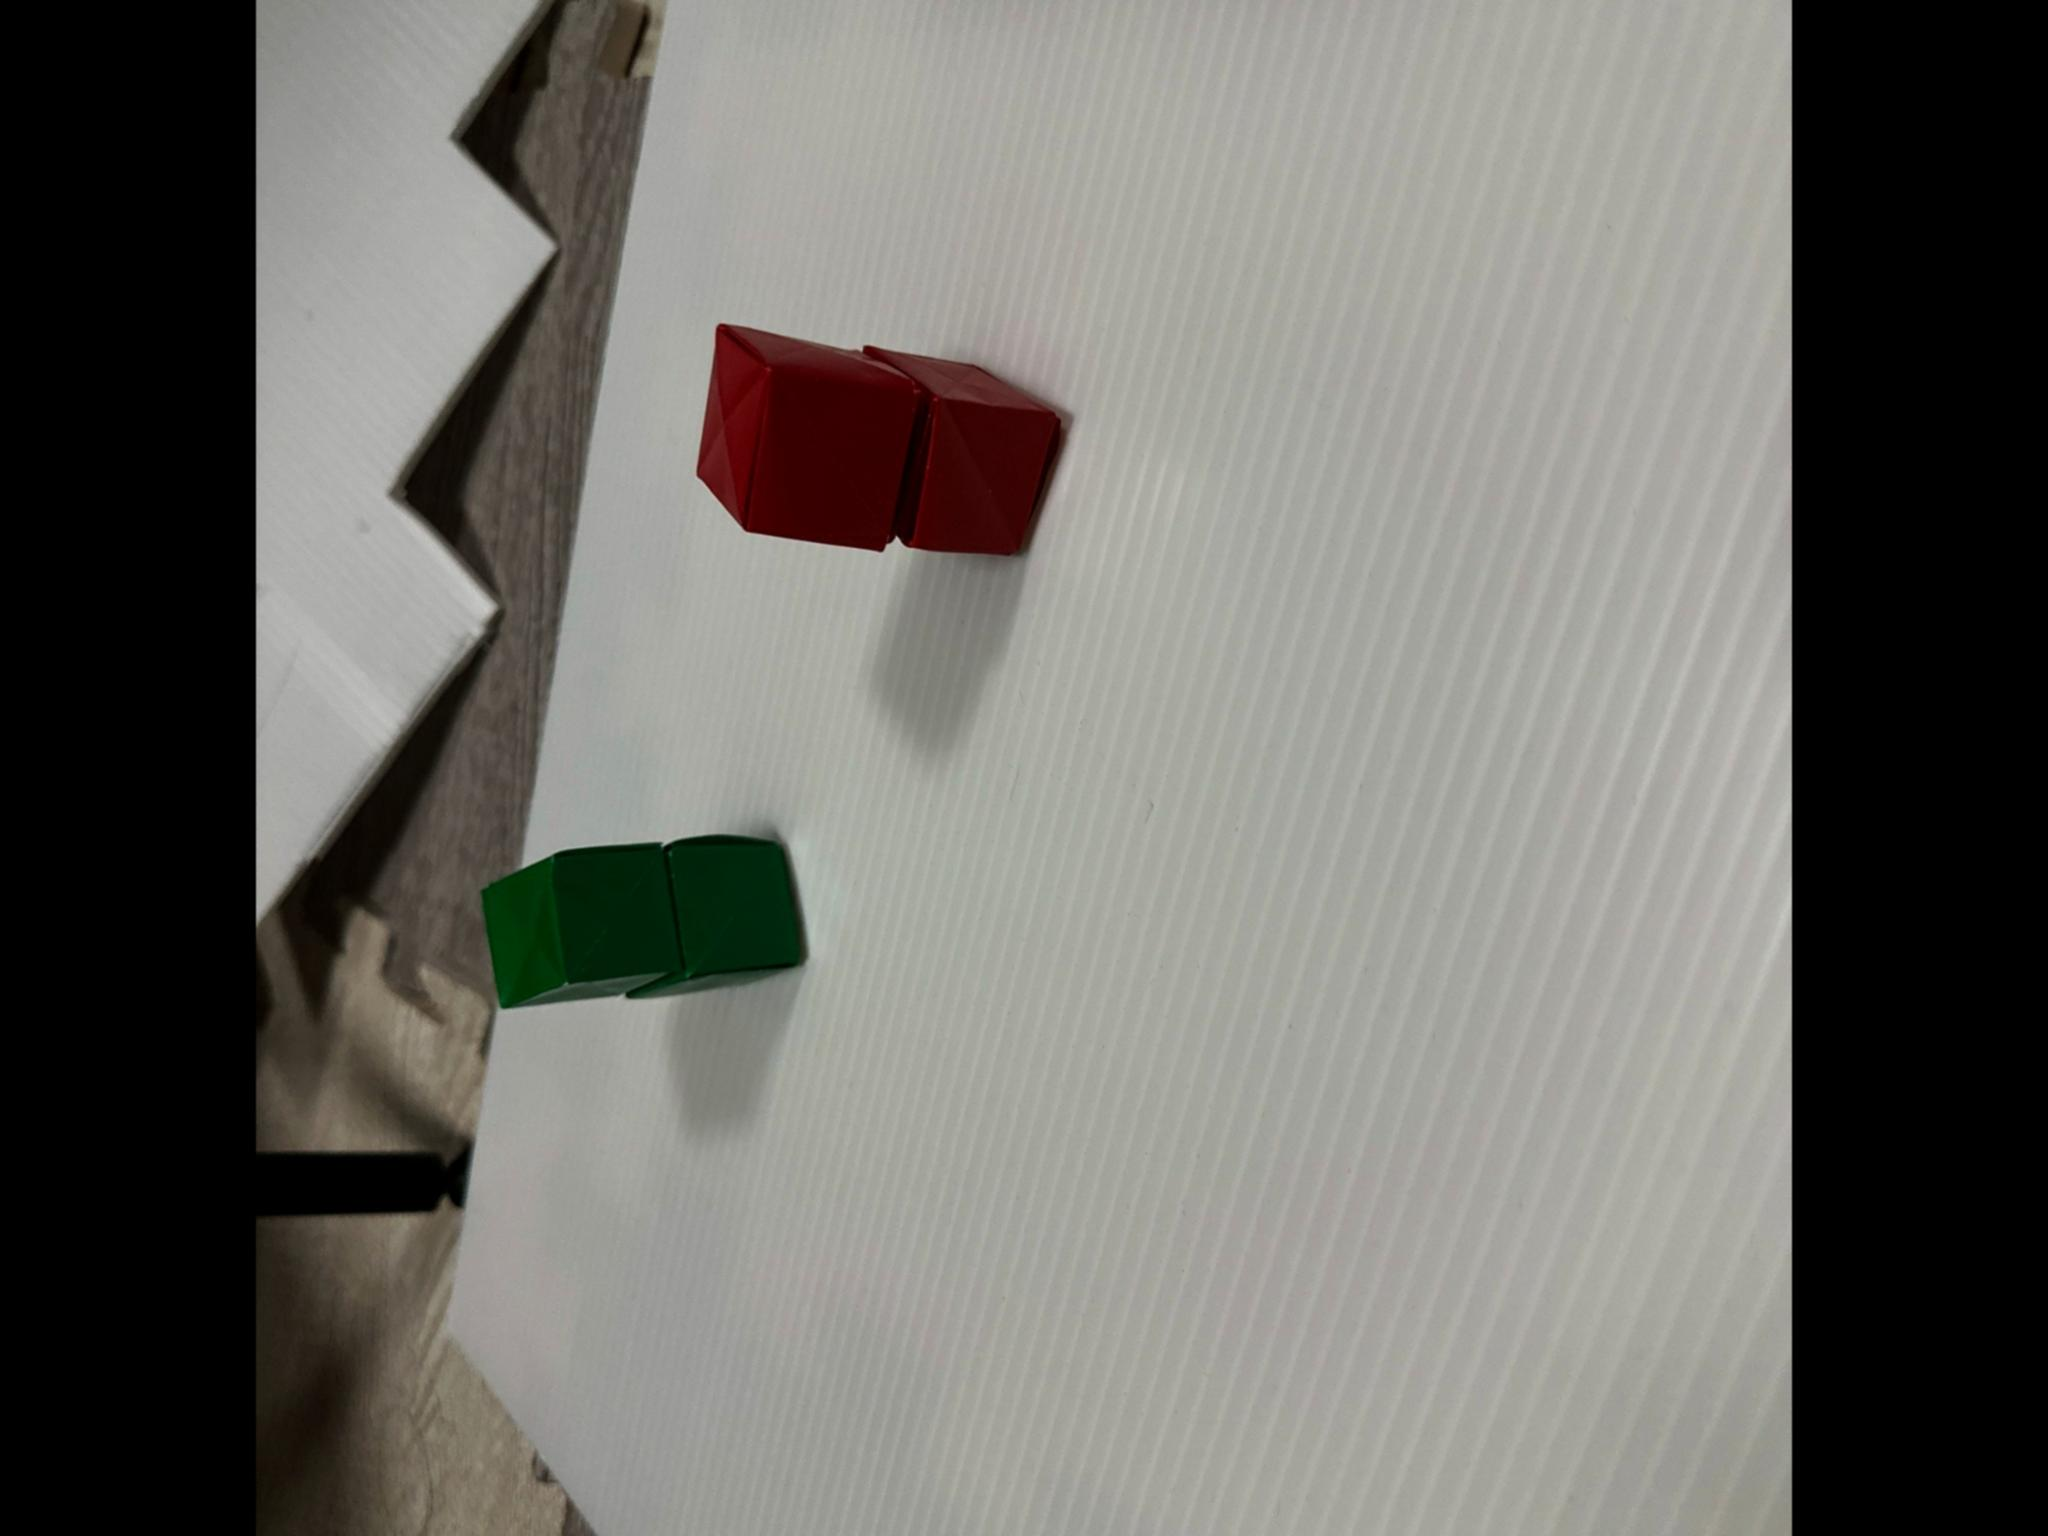cube: (697, 324, 918, 549), (863, 345, 1058, 552), (482, 842, 684, 1007), (629, 834, 801, 995)
